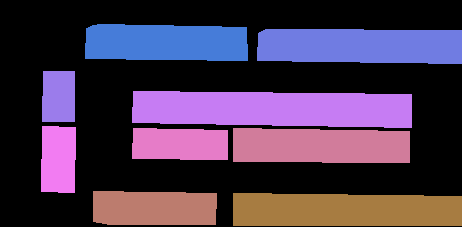parkingspot: (132, 91, 411, 127), (233, 193, 462, 225), (257, 29, 462, 63), (233, 128, 409, 162), (85, 24, 247, 60), (93, 191, 216, 224), (132, 128, 227, 159), (41, 126, 75, 192), (42, 71, 74, 121)
